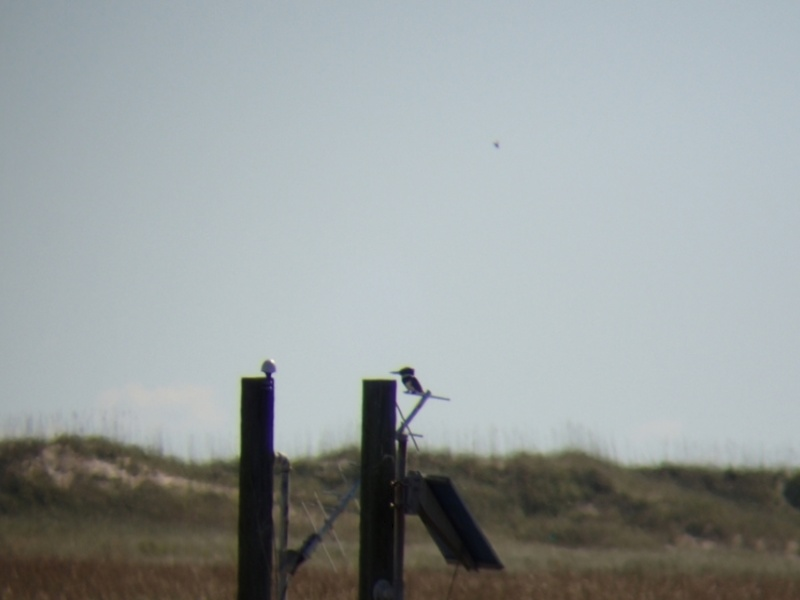kingfisher: (390, 363, 426, 397)
